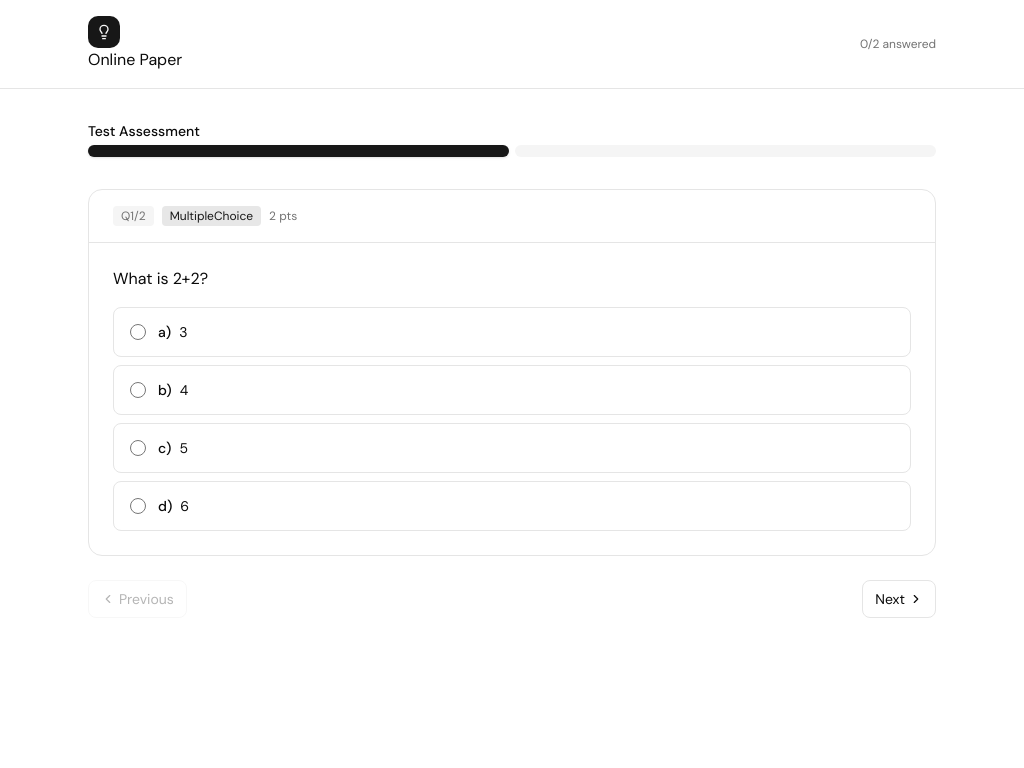
it: timed assessment take page › a submit that loses the race converges to the results view
The width and height of the screenshot is (1024, 768).
Expected: the text "Test Assessment" is shown, [88,122,200,140]
Click the button "Next" at x=899, y=599, box [862,580,936,618]
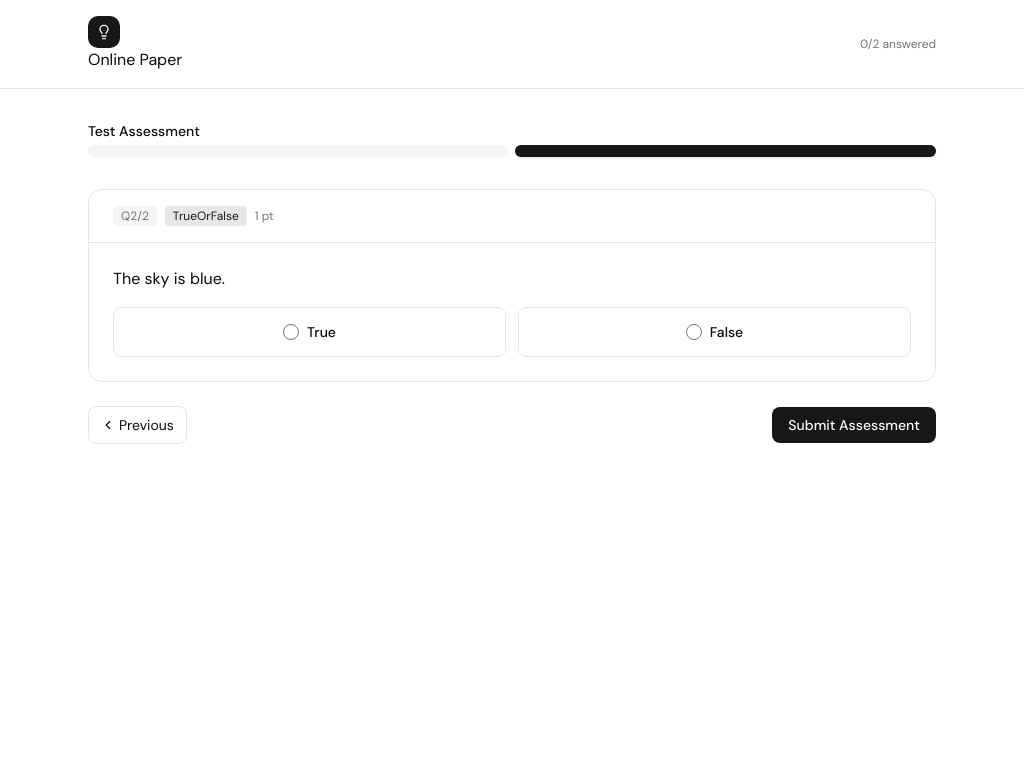
Click the button "Submit Assessment" at x=854, y=425, box [772,407,936,443]
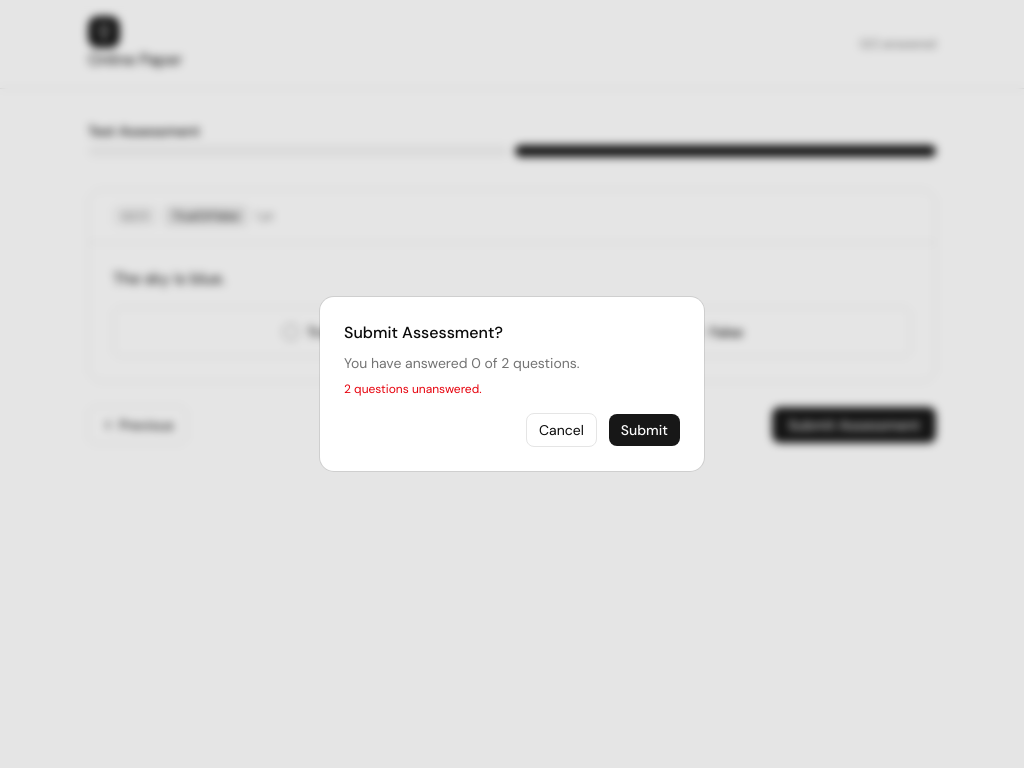
Now the text "2 questions unanswered." is shown, box [344,381,482,397]
Click the button "Submit" at x=644, y=430, box [609,414,680,446]
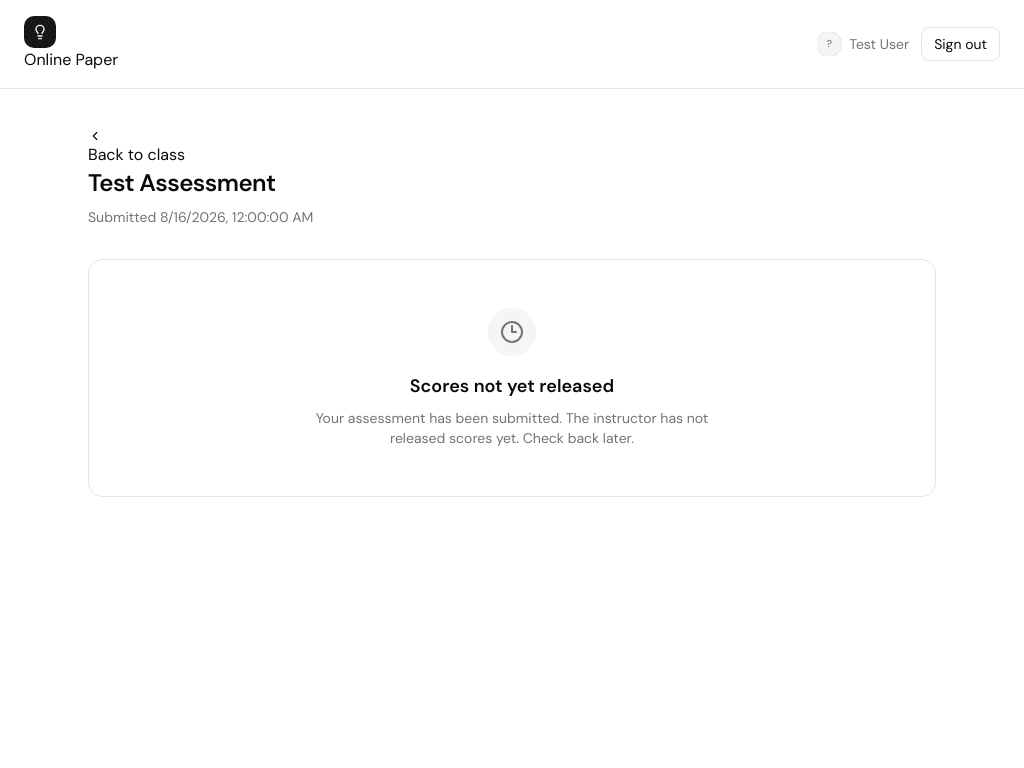
Now the heading "Scores not yet released" is shown, box [410,374,614,398]
Now the button "Submit Assessment" is gone
